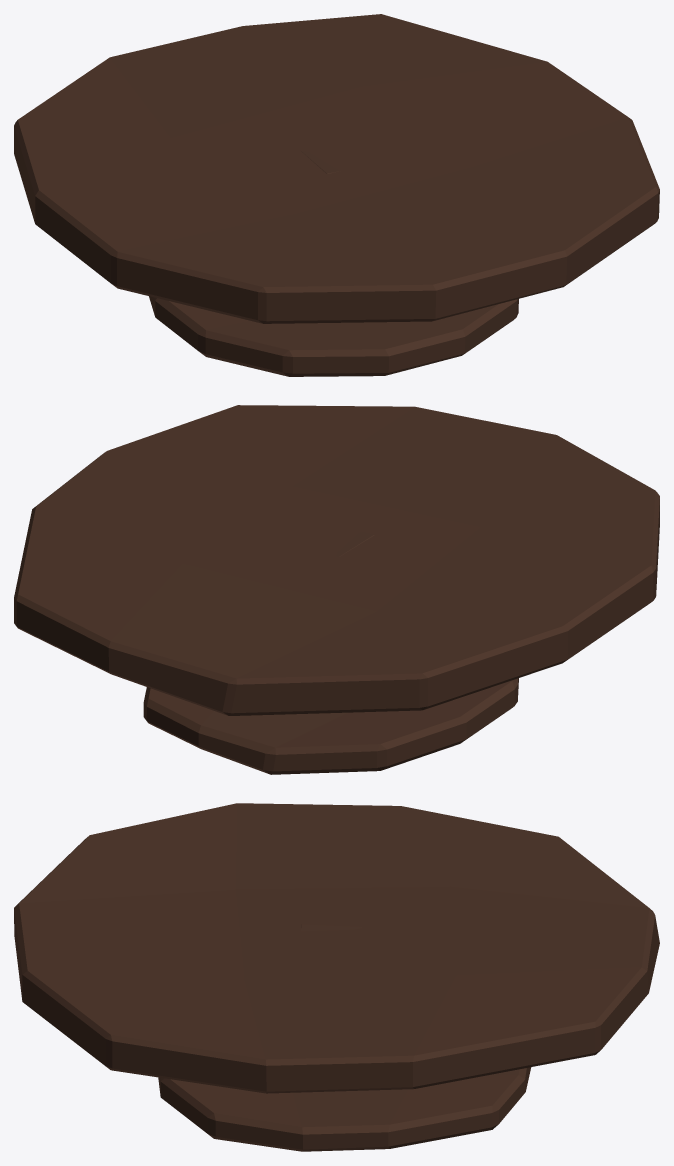
Rendered from table2.fbx.
3 views of the same model, one above another, from view 1: azimuth 30°, elevation 25°; view 2: azimuth 150°, elevation 25°; view 3: azimuth 270°, elevation 25° (orthographic). The views are drawn at different scales.
Visible parts, largest first — view 1: table.001; view 2: table.001; view 3: table.001.
Boxes of the visible parts, bbox=[...] form: table.001: bbox=[14, 14, 659, 376]; table.001: bbox=[14, 405, 659, 774]; table.001: bbox=[14, 803, 659, 1151].
Bounding box in the file's own units: 260 × 73.52 × 276.
